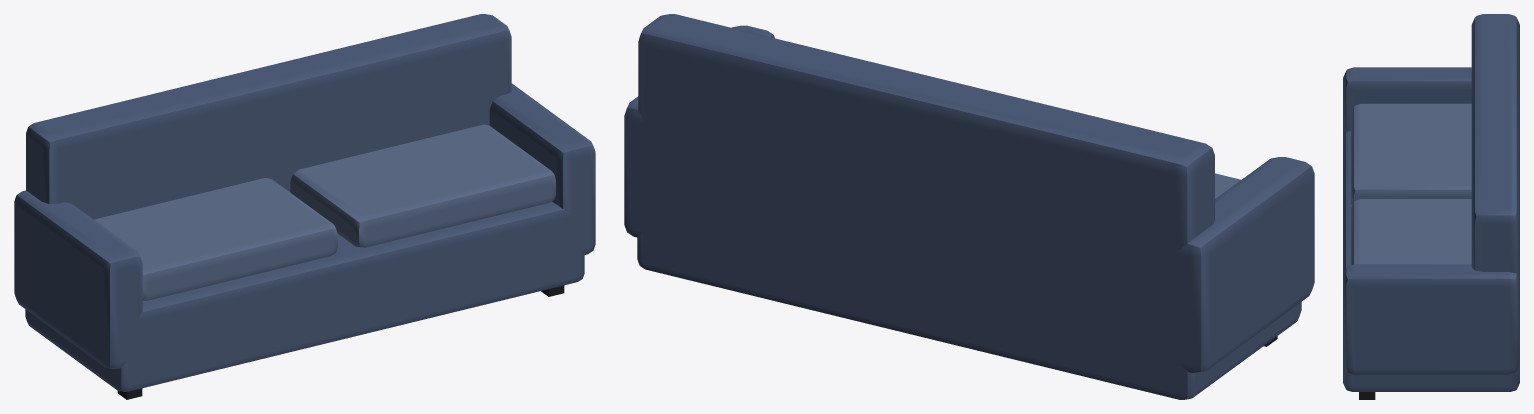
The model's file is sofa.glb.
3 views of the same model, side by side, from view 1: azimuth 30°, elevation 25°; view 2: azimuth 150°, elevation 25°; view 3: azimuth 270°, elevation 25° (orthographic). The views are drawn at different scales.
Parts seen in each view (by area): view 1: part-upholstery, part-cushion; view 2: part-upholstery; view 3: part-upholstery, part-cushion.
Part boxes in pixels (x1=…): part-upholstery: x1=14, y1=14, x2=595, y2=391; part-cushion: x1=94, y1=124, x2=555, y2=300; part-upholstery: x1=624, y1=14, x2=1314, y2=399; part-upholstery: x1=1343, y1=14, x2=1519, y2=391; part-cushion: x1=1351, y1=103, x2=1471, y2=265.
Bounding box in the file's own units: 63 × 26.5 × 22.
